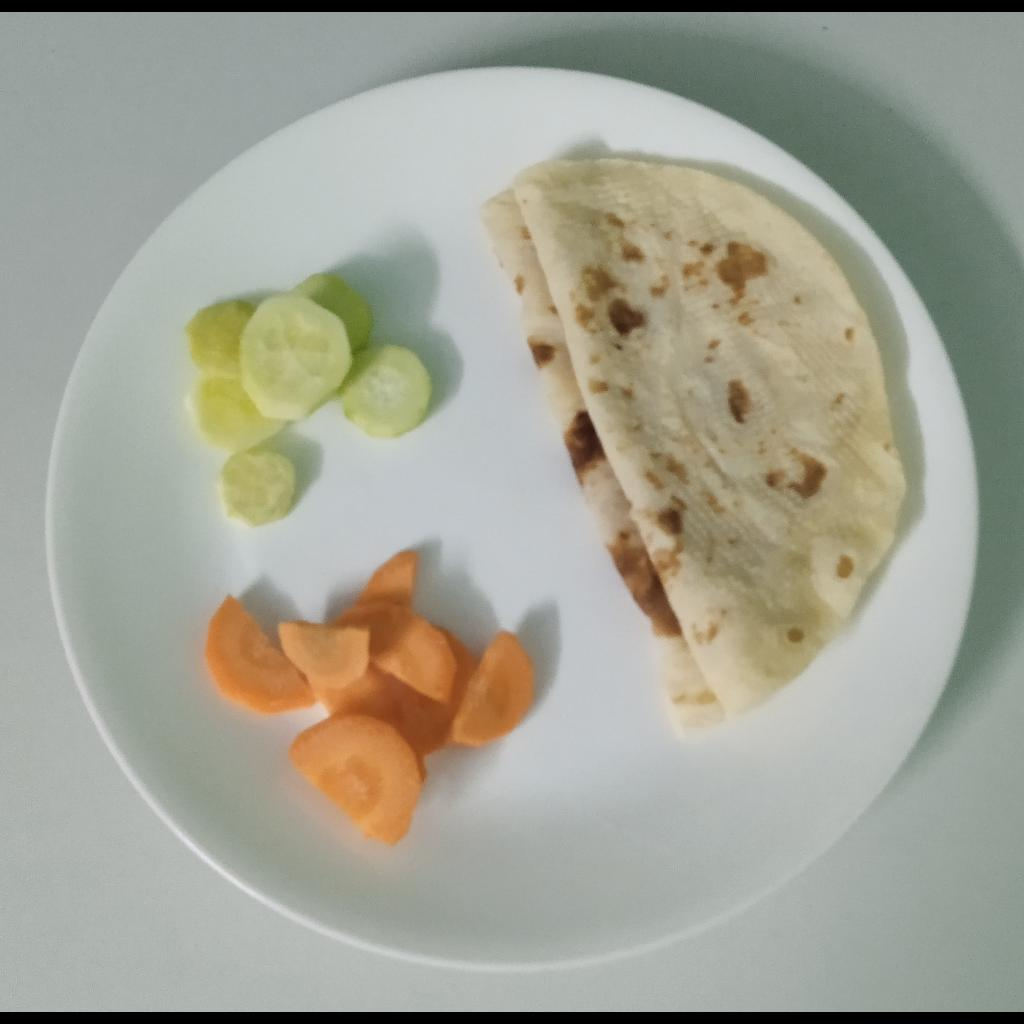carrot: (205, 547, 541, 855)
cucumber: (185, 268, 434, 528)
ruti: (470, 154, 911, 729)
